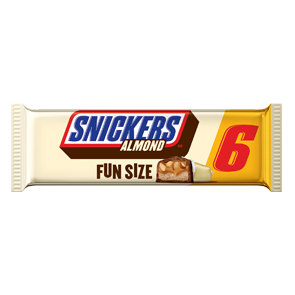snickers: (67, 113, 180, 140)
